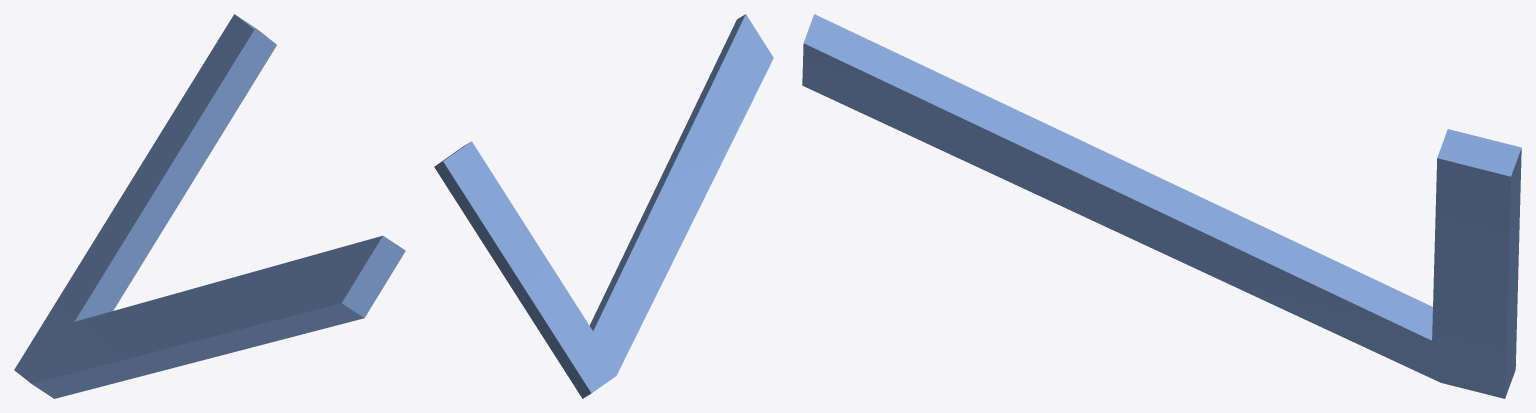
Rendered from New_Number_7.gltf.
The picture shows the model from 3 angles, left to right: view 1: azimuth 30°, elevation 25°; view 2: azimuth 150°, elevation 25°; view 3: azimuth 270°, elevation 25°; orthographic projection. The views are drawn at different scales.
Parts seen in each view (by area): view 1: Part 682; view 2: Part 682; view 3: Part 682.
Part boxes in pixels (<box>): Part 682: <box>14,14,405,398</box>; Part 682: <box>434,14,773,398</box>; Part 682: <box>802,14,1521,398</box>.
Bounding box in the file's own units: 0.00254 × 0.00342 × 0.00541.
